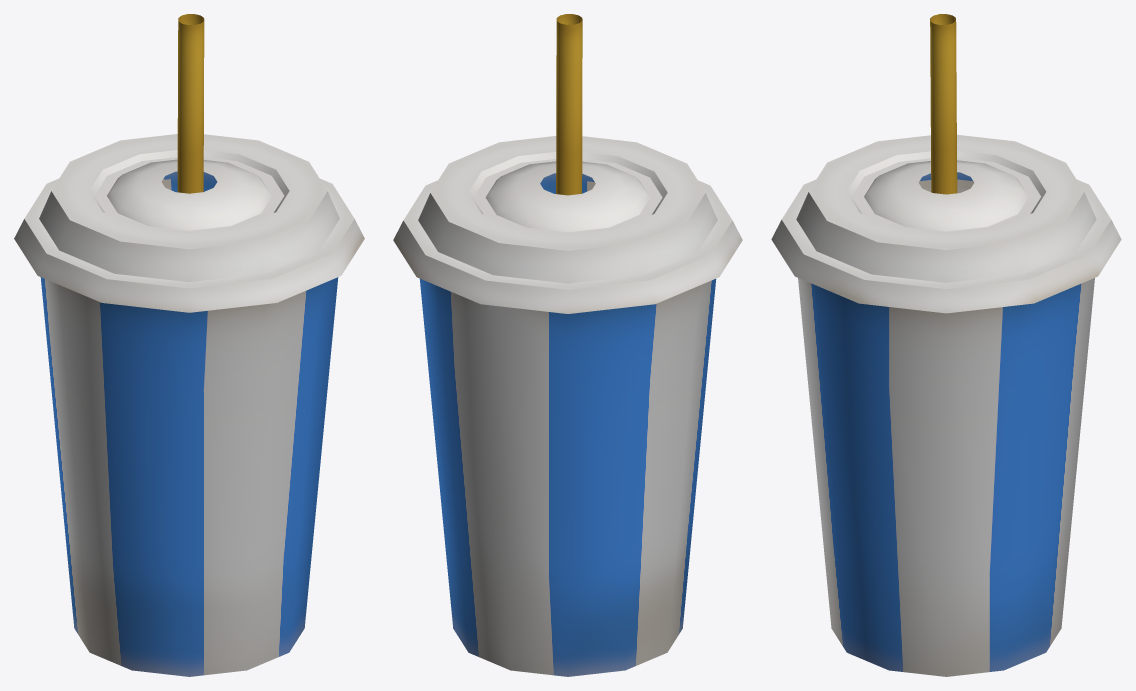
The model's file is beach_softdrink_cup.fbx.
3 renders of one model, left to right at view 1: azimuth 30°, elevation 25°; view 2: azimuth 150°, elevation 25°; view 3: azimuth 270°, elevation 25°, orthographic.
Visible parts, largest first — view 1: GEO-beach_softdrink_cup, GEO-beach_softdrink_straw; view 2: GEO-beach_softdrink_cup, GEO-beach_softdrink_straw; view 3: GEO-beach_softdrink_cup, GEO-beach_softdrink_straw.
Boxes of the visible parts, x1,y1,x2,y2 form: GEO-beach_softdrink_cup: [14, 134, 364, 676]; GEO-beach_softdrink_straw: [177, 14, 204, 193]; GEO-beach_softdrink_cup: [393, 136, 742, 676]; GEO-beach_softdrink_straw: [556, 14, 582, 195]; GEO-beach_softdrink_cup: [771, 134, 1121, 676]; GEO-beach_softdrink_straw: [930, 14, 957, 194].
Bounding box in the file's own units: 10.9 × 20.9 × 10.9.
